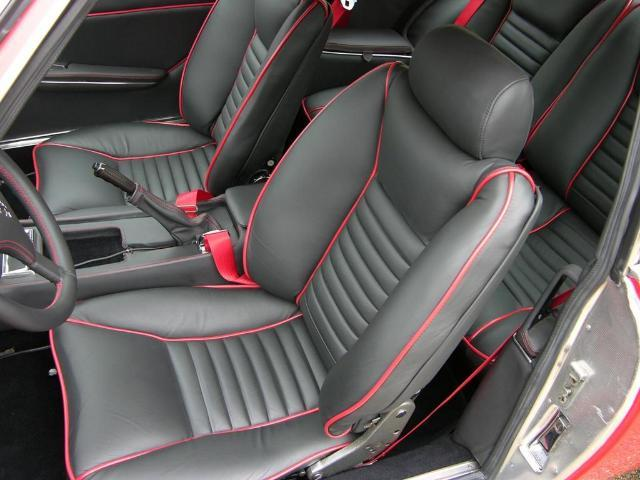Seatbelt: (200, 227, 256, 289), (174, 190, 214, 218), (328, 0, 358, 28)
